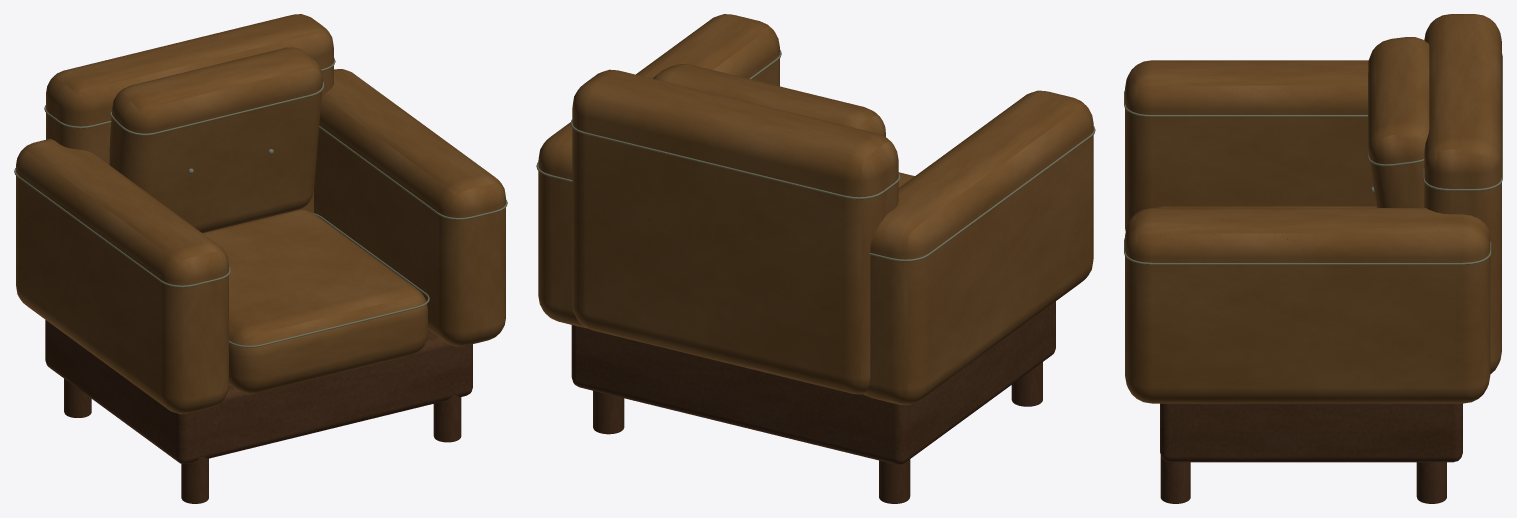
File: chair.glb
3 renders of one model, left to right at view 1: azimuth 30°, elevation 25°; view 2: azimuth 150°, elevation 25°; view 3: azimuth 270°, elevation 25°, orthographic. The views are drawn at different scales.
Parts seen in each view (by area): view 1: Upholstered arm, Upholstered arm.001, Back cushion, Seat cushion, Walnut lower sofa frame, Upholstered rear frame, Tapered timber foot.002, Tapered timber foot, Seat cushion / stitched piping, Tapered timber foot.001, Upholstered arm / stitched piping, Back cushion / stitched piping; view 2: Upholstered rear frame, Upholstered arm, Walnut lower sofa frame, Upholstered arm.001, Back cushion, Tapered timber foot.001, Tapered timber foot.003, Tapered timber foot, Upholstered rear frame / stitched piping, Upholstered arm / stitched piping; view 3: Upholstered arm.001, Upholstered arm, Walnut lower sofa frame, Upholstered rear frame, Back cushion, Tapered timber foot.002, Tapered timber foot.003, Upholstered arm / stitched piping.001, Upholstered arm / stitched piping, Seat cushion.
Part boxes in pixels (left/top/right/bottom): Upholstered arm: left=16, top=138, right=228, bottom=414; Upholstered arm.001: left=314, top=69, right=505, bottom=346; Back cushion: left=109, top=47, right=322, bottom=232; Seat cushion: left=202, top=209, right=427, bottom=394; Walnut lower sofa frame: left=45, top=320, right=472, bottom=463; Upholstered rear frame: left=46, top=14, right=333, bottom=212; Tapered timber foot.002: left=433, top=395, right=461, bottom=442; Tapered timber foot: left=181, top=456, right=208, bottom=503; Seat cushion / stitched piping: left=229, top=213, right=429, bottom=347; Tapered timber foot.001: left=64, top=378, right=91, bottom=417; Upholstered arm / stitched piping: left=14, top=168, right=230, bottom=287; Back cushion / stitched piping: left=110, top=81, right=324, bottom=135; Upholstered rear frame: left=572, top=69, right=898, bottom=394; Upholstered arm: left=864, top=90, right=1093, bottom=405; Walnut lower sofa frame: left=571, top=301, right=1055, bottom=464; Upholstered arm.001: left=538, top=14, right=779, bottom=328; Back cushion: left=653, top=64, right=885, bottom=136; Tapered timber foot.001: left=879, top=459, right=910, bottom=503; Tapered timber foot.003: left=593, top=390, right=624, bottom=434; Tapered timber foot: left=1011, top=362, right=1042, bottom=406; Upholstered rear frame / stitched piping: left=570, top=119, right=900, bottom=199; Upholstered arm / stitched piping: left=869, top=126, right=1095, bottom=261; Upholstered arm.001: left=1125, top=208, right=1490, bottom=403; Upholstered arm: left=1125, top=60, right=1376, bottom=230; Walnut lower sofa frame: left=1160, top=403, right=1462, bottom=462; Upholstered rear frame: left=1424, top=14, right=1501, bottom=374; Back cushion: left=1368, top=37, right=1429, bottom=207; Tapered timber foot.002: left=1160, top=455, right=1190, bottom=503; Tapered timber foot.003: left=1416, top=462, right=1446, bottom=503; Upholstered arm / stitched piping.001: left=1124, top=238, right=1491, bottom=264; Upholstered arm / stitched piping: left=1124, top=90, right=1367, bottom=116; Seat cushion: left=1155, top=206, right=1376, bottom=207.
Bounding box in the file's own units: 1.12 × 1.01 × 0.9756.
Materials: 3 (2 with a texture image).
